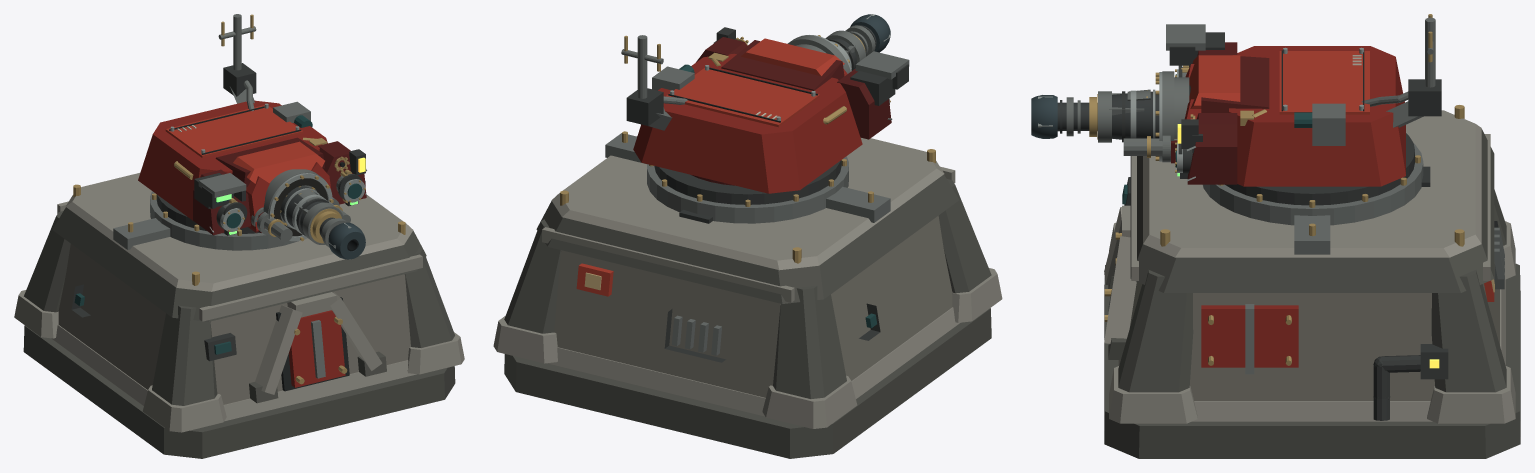
File: martian_heavy_weapon_bunker_v08_flat_export.glb
3 views of the same model, side by side, from view 1: azimuth 30°, elevation 25°; view 2: azimuth 150°, elevation 25°; view 3: azimuth 270°, elevation 25° (orthographic). The views are drawn at different scales.
Visible parts, largest first — view 1: 03_monolithic_bunker_mass, 01_foundation_granular_ferrocrete, 05_top_concrete_skin, 04_upper_blast_cap, 16_martian_red_turret_armor, 06_corner_armor_buttress_WS, 02_lower_blast_raft, 87_roof_red_inspection_armor, 53_south_slab_anchor_strip, 06_corner_armor_buttress_ES, 09_steel_service_hatch, 06_corner_armor_buttress_WN (+27 smaller); view 2: 03_monolithic_bunker_mass, 05_top_concrete_skin, 01_foundation_granular_ferrocrete, 16_martian_red_turret_armor, 04_upper_blast_cap, 02_lower_blast_raft, 06_corner_armor_buttress_WN, 87_roof_red_inspection_armor, 13_ring_lower_bearing_seat, 06_corner_armor_buttress_EN, 06_corner_armor_buttress_WS, 14_ring_open_bearing_race (+18 smaller); view 3: 05_top_concrete_skin, 03_monolithic_bunker_mass, 01_foundation_granular_ferrocrete, 04_upper_blast_cap, 16_martian_red_turret_armor, 06_corner_armor_buttress_ES, 06_corner_armor_buttress_EN, 55_east_wall_controller_armor, 87_roof_red_inspection_armor, 02_lower_blast_raft, 13_ring_lower_bearing_seat, 18_turret_front_cheek_E (+27 smaller).
Boxes of the visible parts, x1,y1,x2,y2 form: 03_monolithic_bunker_mass: (58,243,410,404); 01_foundation_granular_ferrocrete: (23,325,455,458); 05_top_concrete_skin: (65,173,413,291); 04_upper_blast_cap: (52,207,426,321); 16_martian_red_turret_armor: (138,100,327,220); 06_corner_armor_buttress_WS: (152,305,217,405); 02_lower_blast_raft: (51,324,416,421); 87_roof_red_inspection_armor: (165,105,303,157); 53_south_slab_anchor_strip: (199,254,422,321); 06_corner_armor_buttress_ES: (404,247,454,347); 09_steel_service_hatch: (288,310,345,387); 06_corner_armor_buttress_WN: (24,211,70,312); 03_monolithic_bunker_mass: (554,215,952,397); 05_top_concrete_skin: (551,136,944,270); 01_foundation_granular_ferrocrete: (504,308,991,458); 16_martian_red_turret_armor: (633,53,862,193); 04_upper_blast_cap: (536,174,959,303); 02_lower_blast_raft: (548,307,960,416); 06_corner_armor_buttress_WN: (773,286,846,398); 87_roof_red_inspection_armor: (666,68,819,127); 13_ring_lower_bearing_seat: (647,156,848,223); 06_corner_armor_buttress_EN: (504,219,561,333); 06_corner_armor_buttress_WS: (938,179,991,293); 14_ring_open_bearing_race: (654,160,841,204); 05_top_concrete_skin: (1143,110,1481,257); 03_monolithic_bunker_mass: (1130,262,1499,400); 01_foundation_granular_ferrocrete: (1104,263,1520,458); 04_upper_blast_cap: (1130,129,1494,292); 16_martian_red_turret_armor: (1228,46,1405,186); 06_corner_armor_buttress_ES: (1118,270,1193,392); 06_corner_armor_buttress_EN: (1431,270,1506,392); 55_east_wall_controller_armor: (1201,305,1298,367); 87_roof_red_inspection_armor: (1279,51,1369,114); 02_lower_blast_raft: (1118,279,1505,421); 13_ring_lower_bearing_seat: (1203,143,1423,225); 18_turret_front_cheek_E: (1187,113,1237,184).
Bounding box in the file's own units: 3.04 × 3.01 × 3.53.
